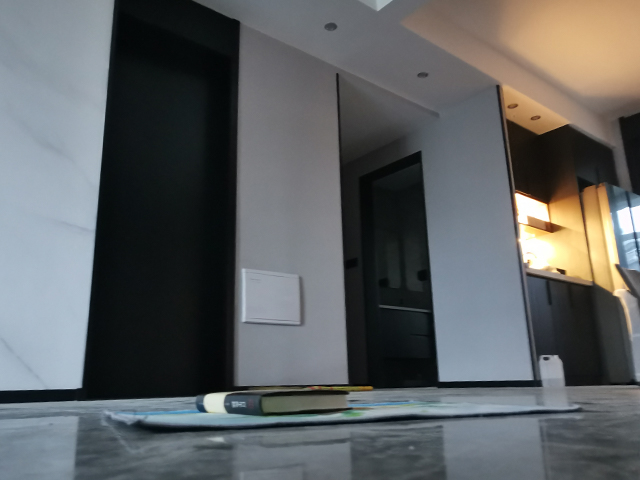book: (193, 383, 377, 416)
cabinet: (519, 271, 609, 390)
carpet: (98, 398, 586, 432)
